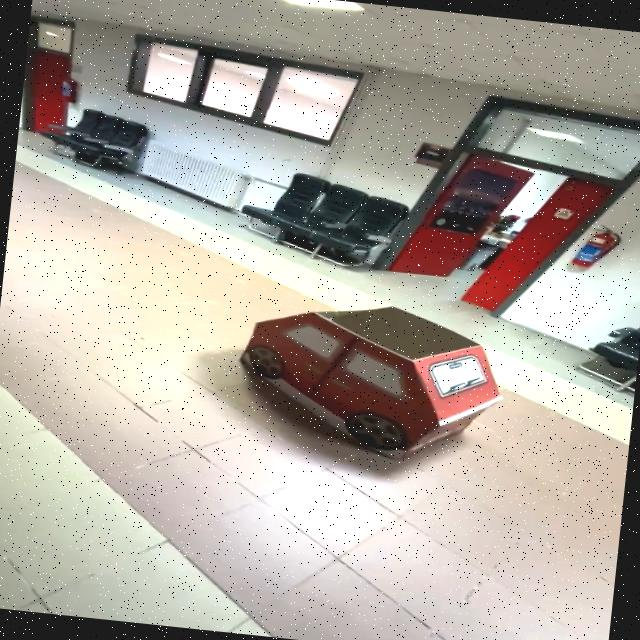red_car: (205, 270, 522, 495)
